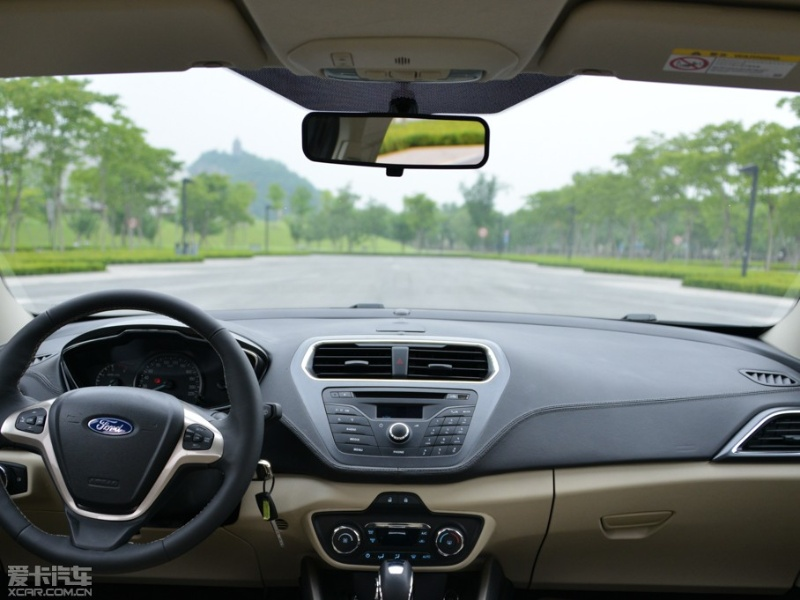control_center: (278, 313, 522, 545)
gear_lever: (360, 551, 425, 594)
odometer: (63, 339, 248, 394)
steering_wheel: (9, 291, 265, 545)
